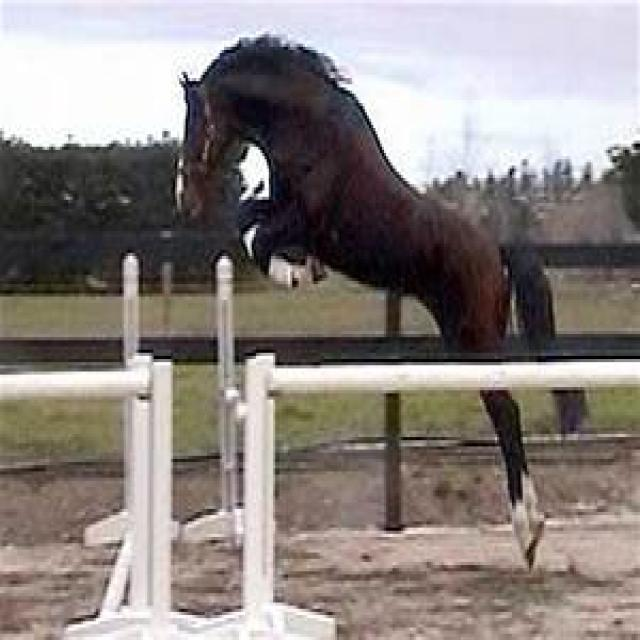horse: (184, 37, 508, 348), (482, 390, 544, 566)
